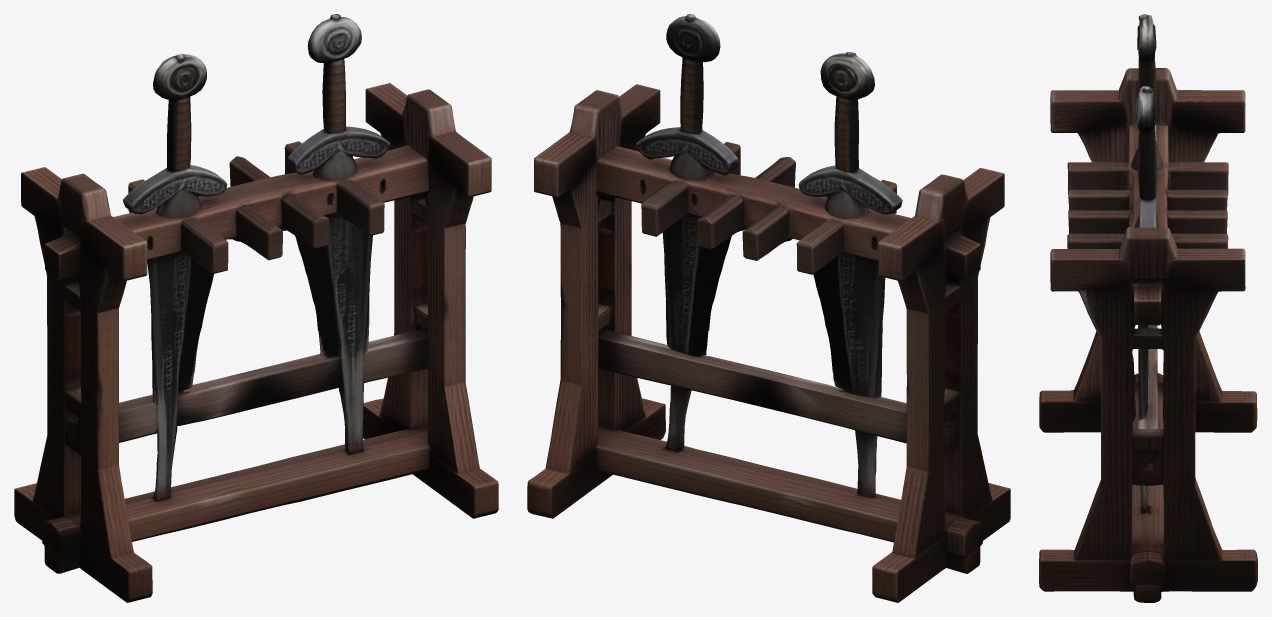
File: weaponrack_sword.glb
3 views of the same model, side by side, from view 1: azimuth 30°, elevation 25°; view 2: azimuth 150°, elevation 25°; view 3: azimuth 270°, elevation 25° (orthographic). The views are drawn at different scales.
Parts seen in each view (by area): view 1: world; view 2: world; view 3: world.
Part boxes in pixels (left/top/right/bottom): world: left=14, top=14, right=498, bottom=602; world: left=527, top=14, right=1010, bottom=602; world: left=1039, top=14, right=1257, bottom=602.
Size of the model in its own units: 0.8819 by 0.9981 by 0.4323.
1 material, 1 textured.
